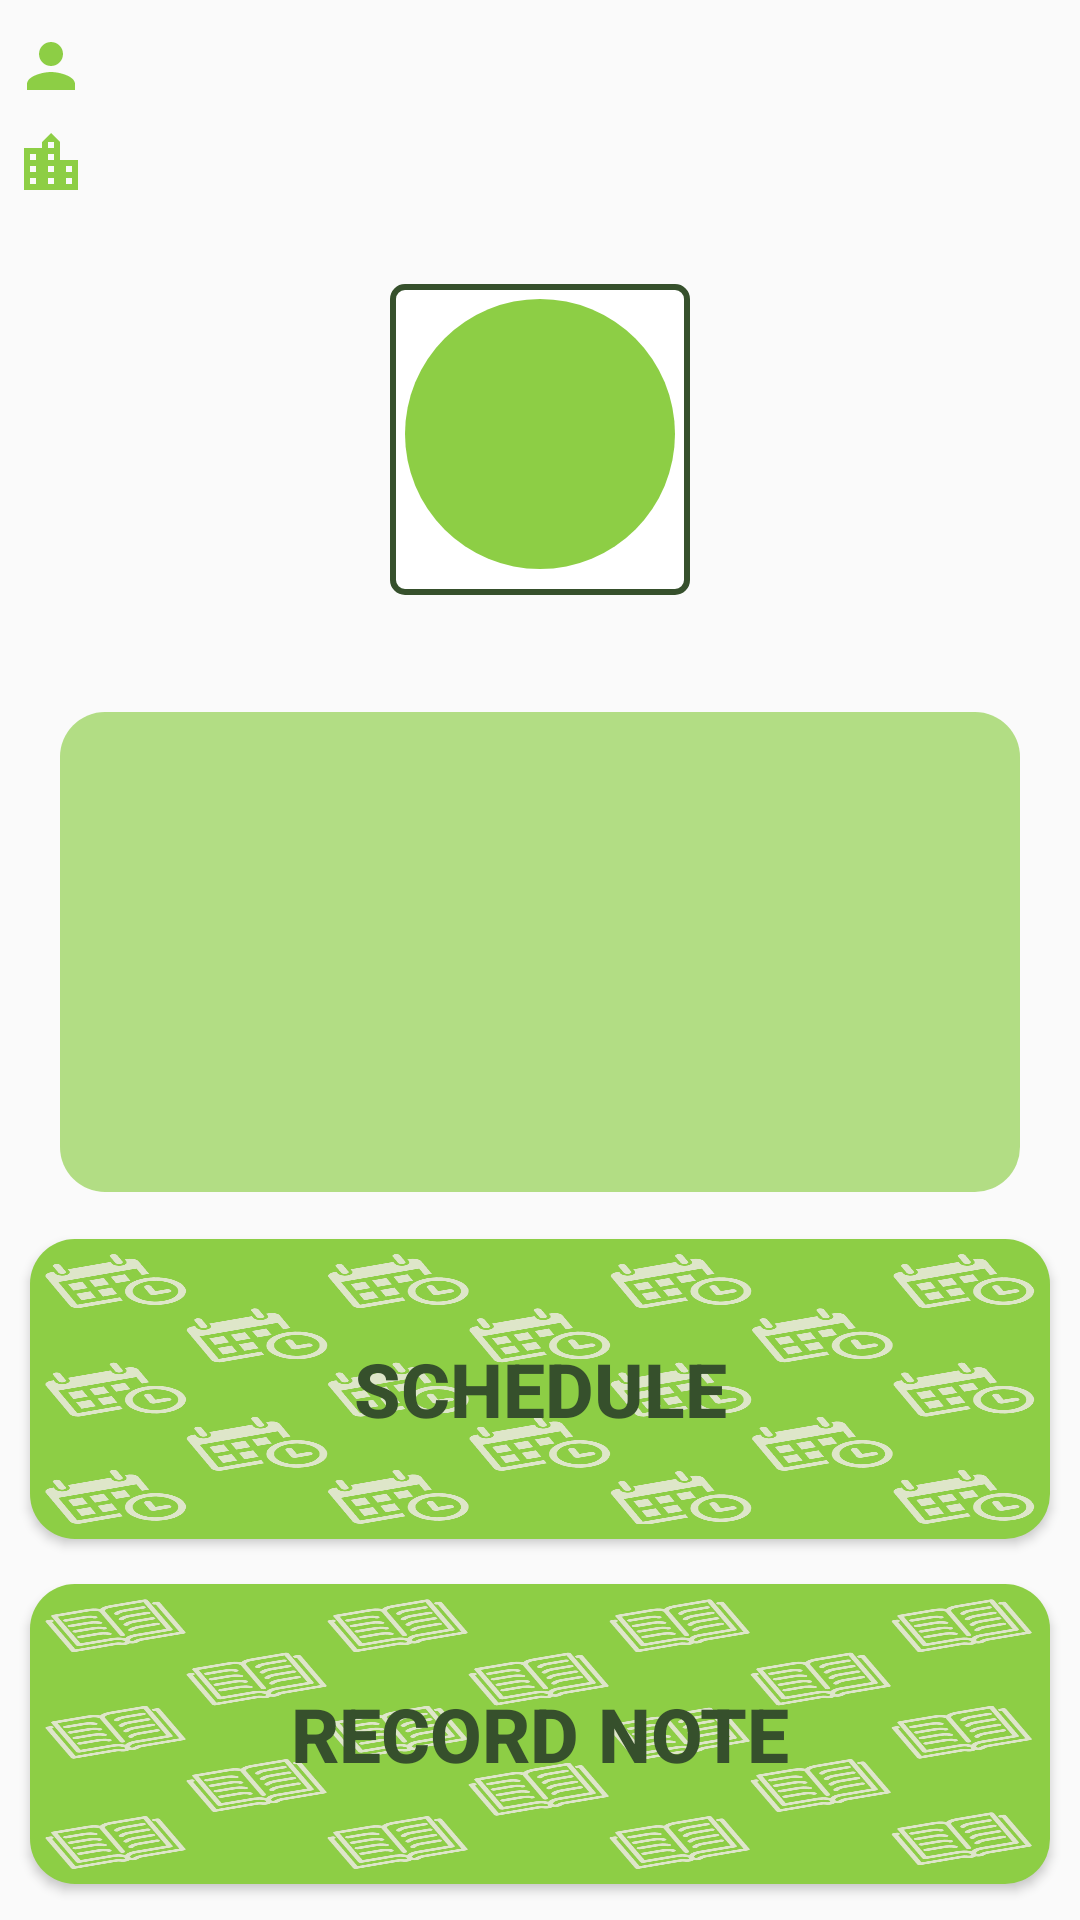

Where icons sit on this 1080x1920 app screen, as [left=x1, top=y1, right=x2, bottom=y2]:
city: [left=24, top=133, right=78, bottom=190]
person: [left=27, top=42, right=75, bottom=90]
